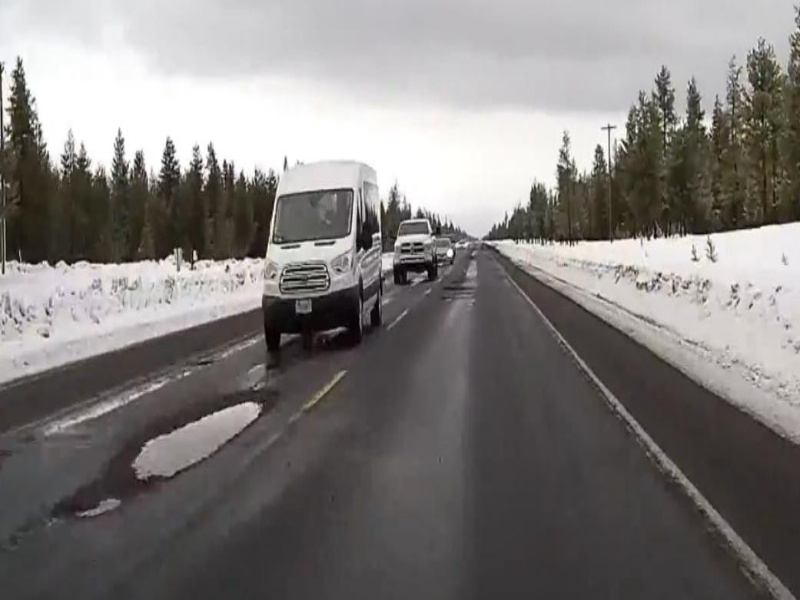pothole: (118, 391, 270, 486), (69, 493, 137, 522)
